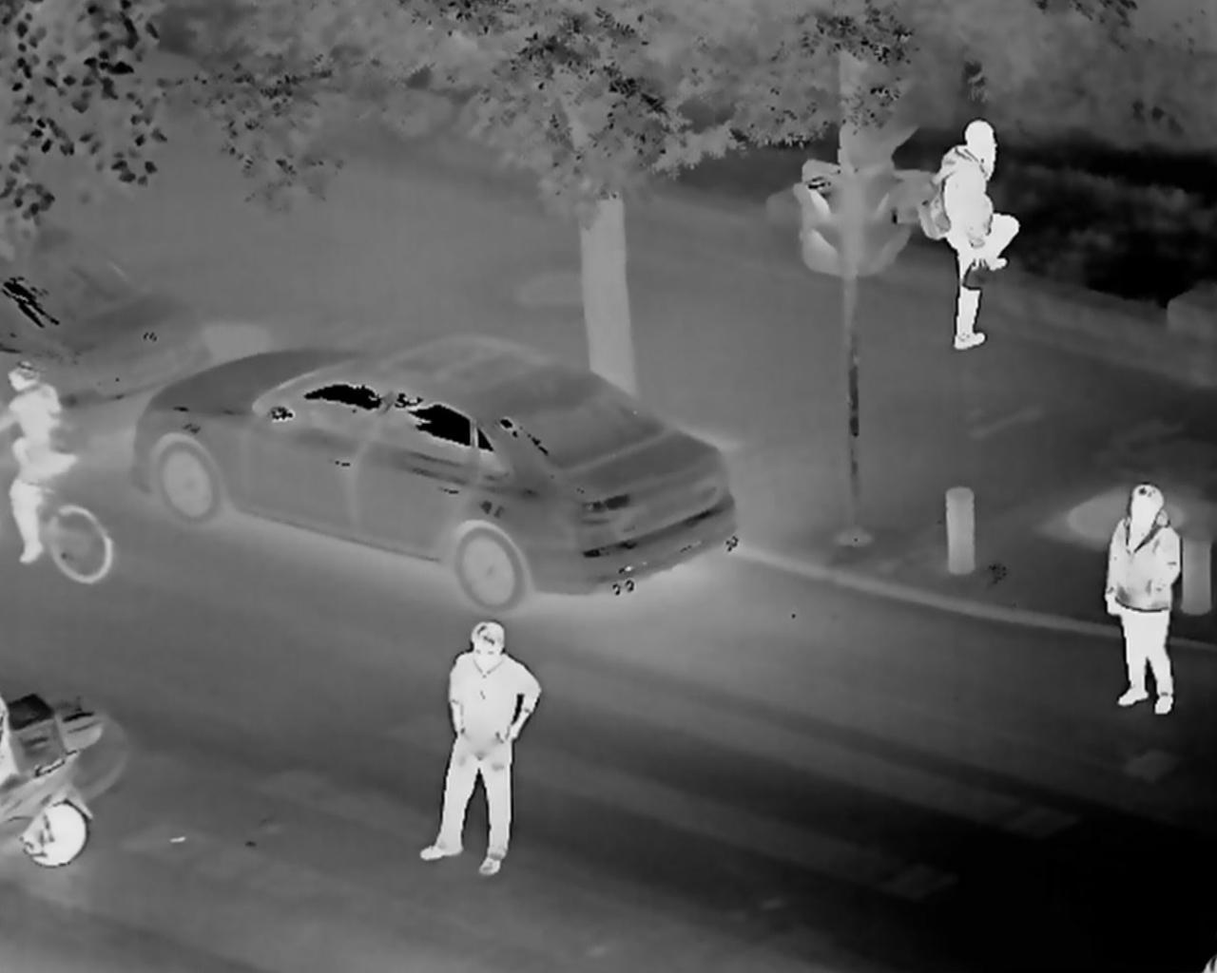person: (417, 616, 549, 882), (920, 113, 1021, 370), (1096, 483, 1188, 725), (3, 359, 83, 571)
